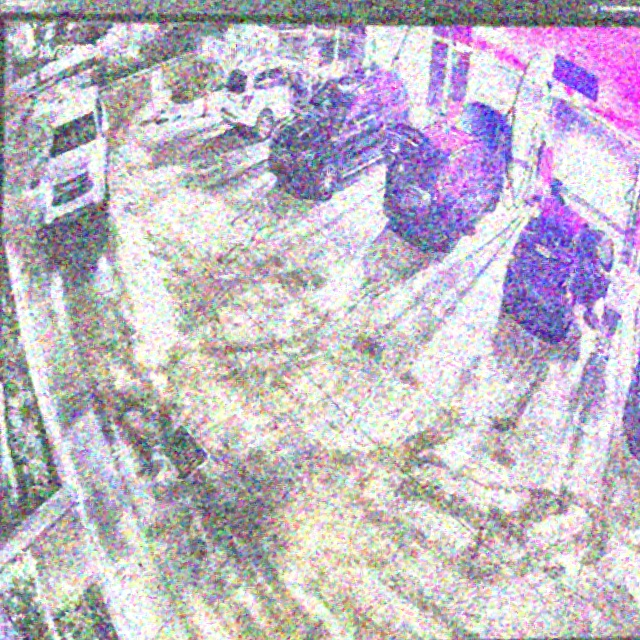Car: (271, 64, 411, 201), (374, 98, 507, 242)
